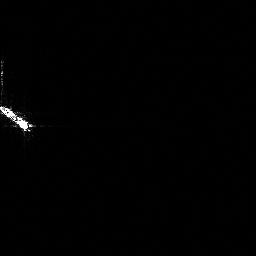ship: (1, 101, 39, 138)
